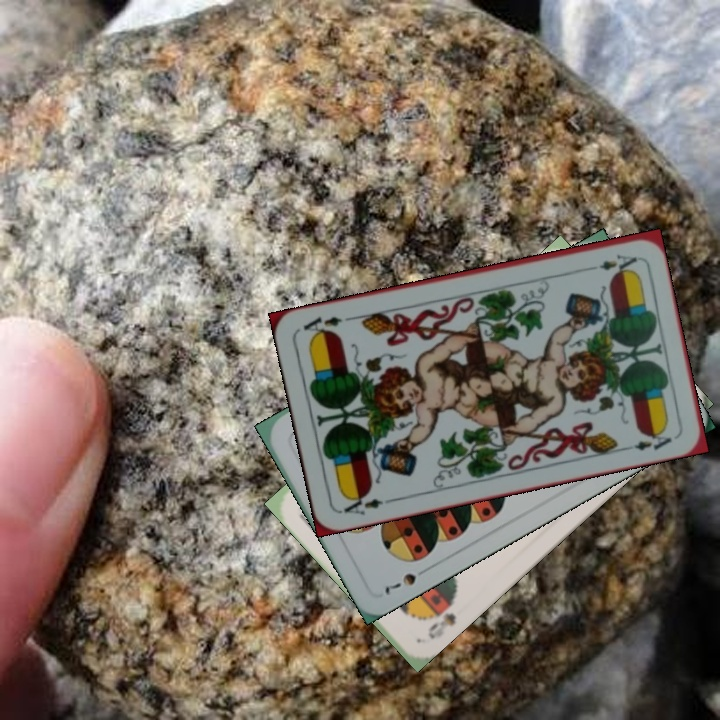EA: (337, 489, 396, 518), (581, 250, 640, 274)
S7: (380, 563, 432, 598)
SO: (423, 591, 459, 642)
